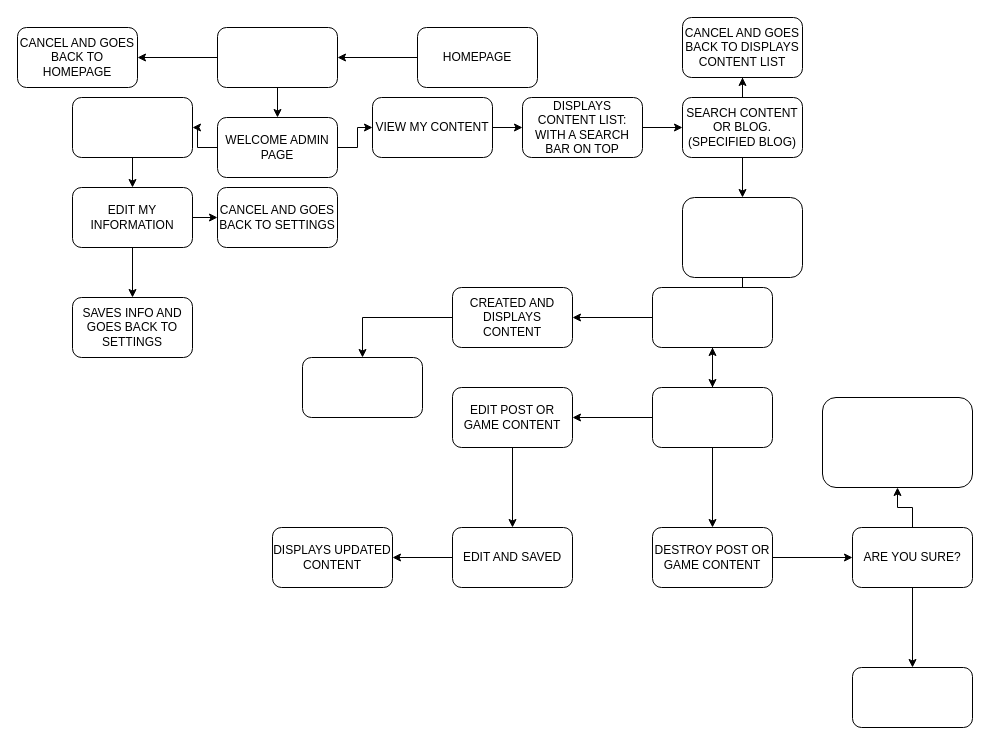
Some shapes in this 990 by 745 pixel diagram are drawn without their labels. Here are the shapes that lost their labels. From the top down, the centre of each, then its label:
At pixel 277 57: "SIGN IN AS AN ADMIN".
At pixel 132 127: "SETTINGS".
At pixel 742 237: "SEARCHES SPECIFIC CONTENTS: PUBLISHED AND DRAFT.".
At pixel 712 317: "CREATE POST OR GAME CONTENT".
At pixel 362 387: "DISPLAYS CONTENT".
At pixel 712 417: "DISPLAYS SPECIFIED BLOG OR CONTENT".
At pixel 897 442: "CANCEL AND GOES BACK TO (DISPLAYS SPECIFIED BLOG OR CONTENT )".
At pixel 912 697: "YES AND GOES TO DISPLAYED SPECIFIED BLOG OR CONTENT".
